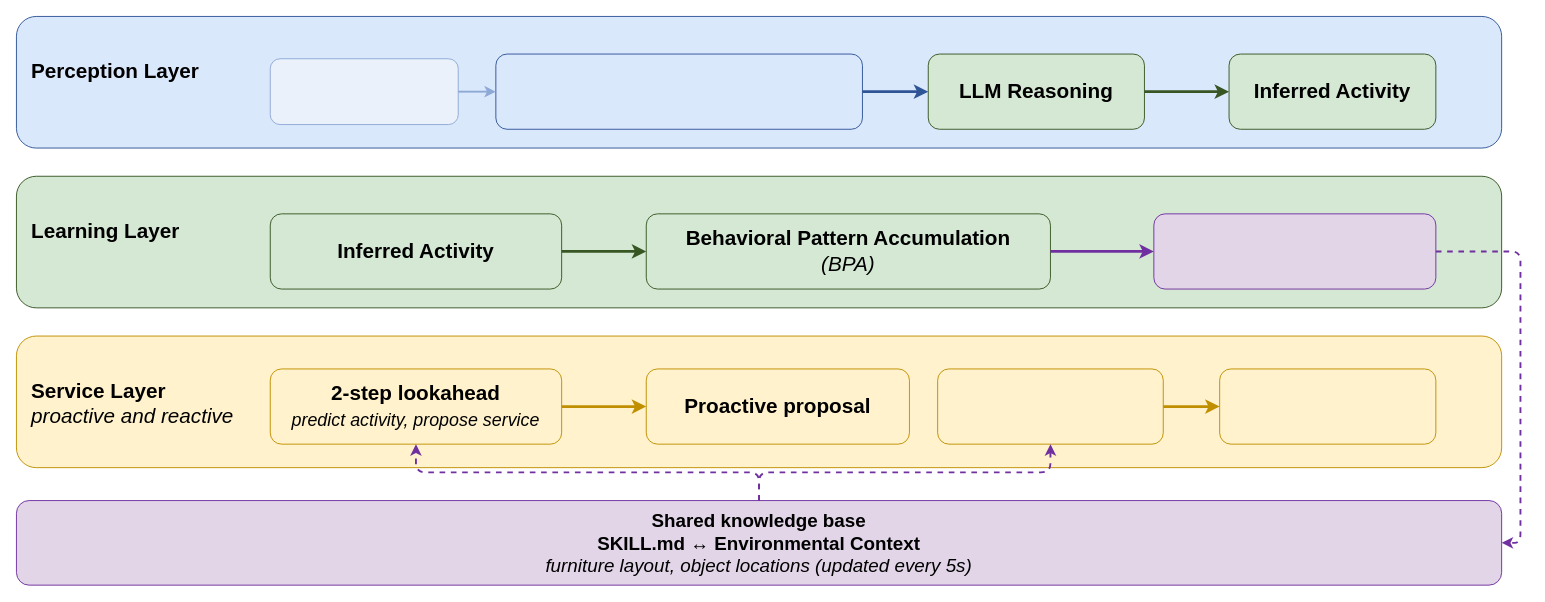
Some shapes in this 1545 by 602 pixel diagram are drawn without their labels. The centre of each missing label's shape, as x and y in pixels:
Fixed cameras event-driven capture: (x=363, y=91)
Personalized response: (x=1327, y=406)
Skeleton features, Object events, and Spatial context: (x=678, y=91)
SKILL.md personalized rules: (x=1294, y=251)
User input: (x=1050, y=406)
